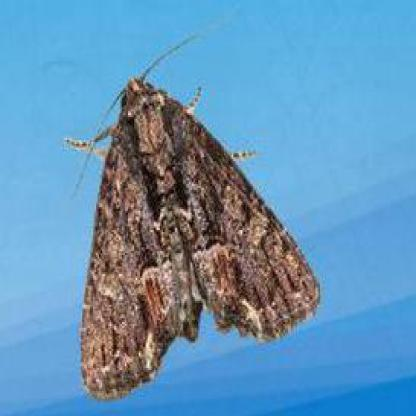armyworm: (61, 58, 334, 395)
